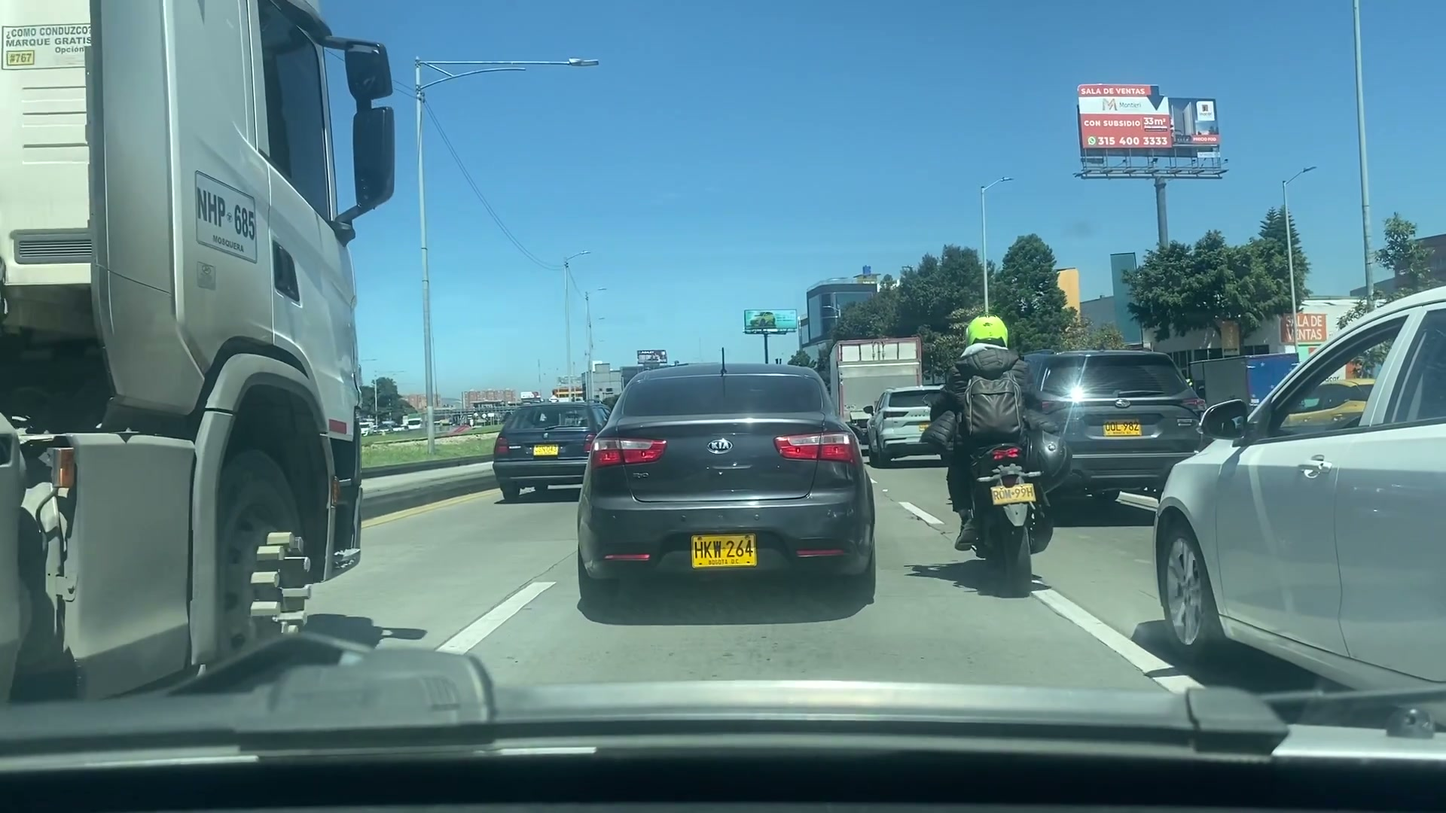car: (1150, 288, 1446, 716), (581, 361, 876, 607), (1012, 346, 1207, 520), (492, 401, 608, 498), (868, 383, 955, 466)
motorcycle: (932, 448, 1067, 602)
person: (948, 311, 1053, 548)
truck: (0, 0, 397, 673), (825, 341, 935, 427)
